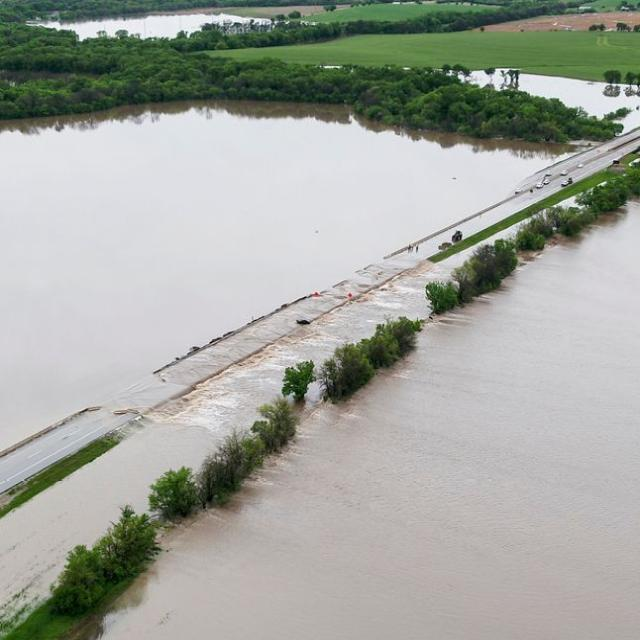flooded_areas: (0, 97, 635, 628)
